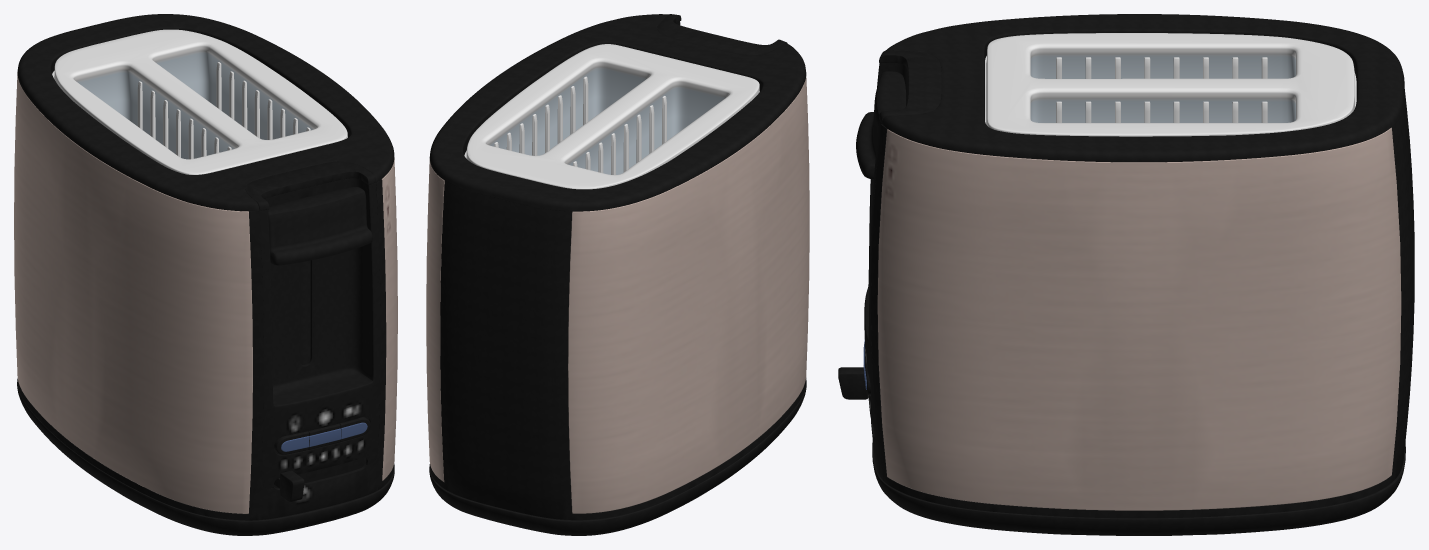
Rendered from bread Machine.fbx.
3 renders of one model, left to right at view 1: azimuth 30°, elevation 25°; view 2: azimuth 150°, elevation 25°; view 3: azimuth 270°, elevation 25°, orthographic. The views are drawn at different scales.
Visible parts, largest first — view 1: Object_6; view 2: Object_6; view 3: Object_6.
Boxes of the visible parts, left/top/right/bottom form: Object_6: left=14, top=14, right=397, bottom=535; Object_6: left=426, top=14, right=809, bottom=535; Object_6: left=838, top=14, right=1414, bottom=535.
Bounding box in the file's own units: 38.39 × 49.51 × 65.65.
1 material, 1 textured.
